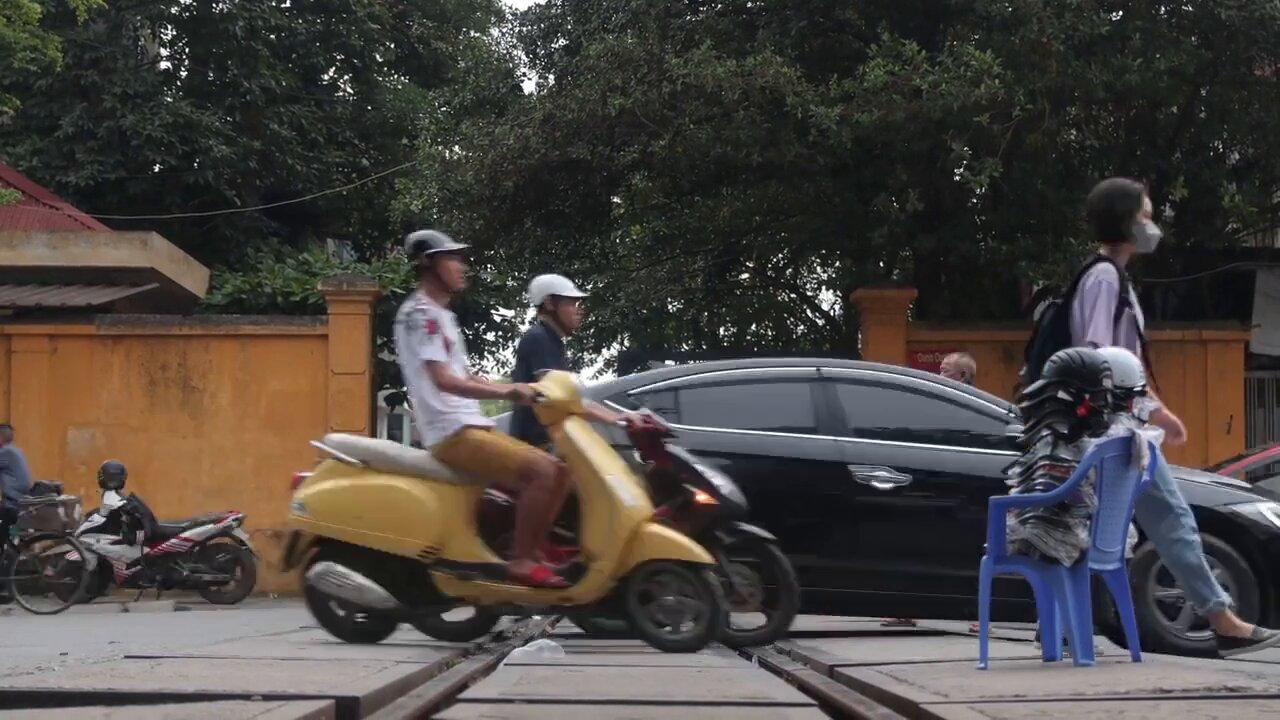bicyclist: (0, 422, 89, 615)
driver: (288, 230, 726, 655), (407, 271, 799, 646)
helmet: (404, 229, 473, 295), (528, 273, 589, 337)
no-helmet: (1085, 176, 1165, 255)
